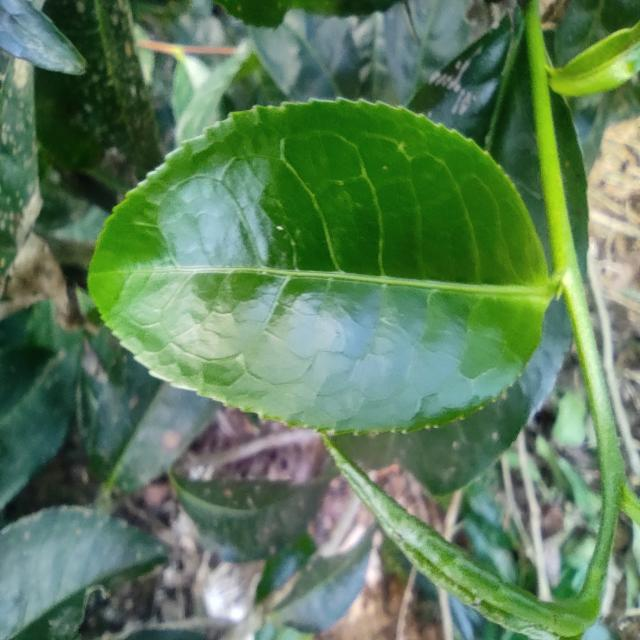Category C(4-7 days): (57, 52, 581, 478)
